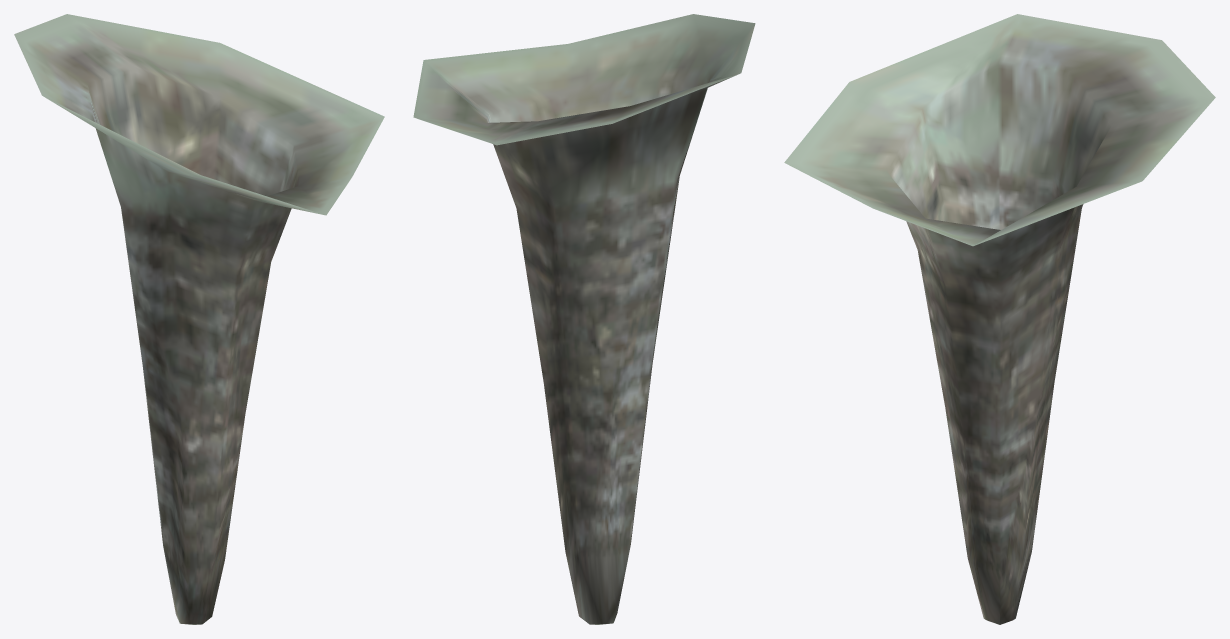
File: TROLLHOLE02_PS-MAINSTALAG11.fbx
3 views of the same model, side by side, from view 1: azimuth 30°, elevation 25°; view 2: azimuth 150°, elevation 25°; view 3: azimuth 270°, elevation 25° (orthographic). The views are drawn at different scales.
Visible parts, largest first — view 1: TROLLHOLE02_PS-MAINSTALAG11; view 2: TROLLHOLE02_PS-MAINSTALAG11; view 3: TROLLHOLE02_PS-MAINSTALAG11.
Boxes of the visible parts, x1,y1,x2,y2 form: TROLLHOLE02_PS-MAINSTALAG11: [14, 14, 384, 624]; TROLLHOLE02_PS-MAINSTALAG11: [413, 14, 755, 624]; TROLLHOLE02_PS-MAINSTALAG11: [784, 14, 1215, 624].
Bounding box in the file's own units: 26344 × 43849 × 31594.
1 material, 1 textured.
